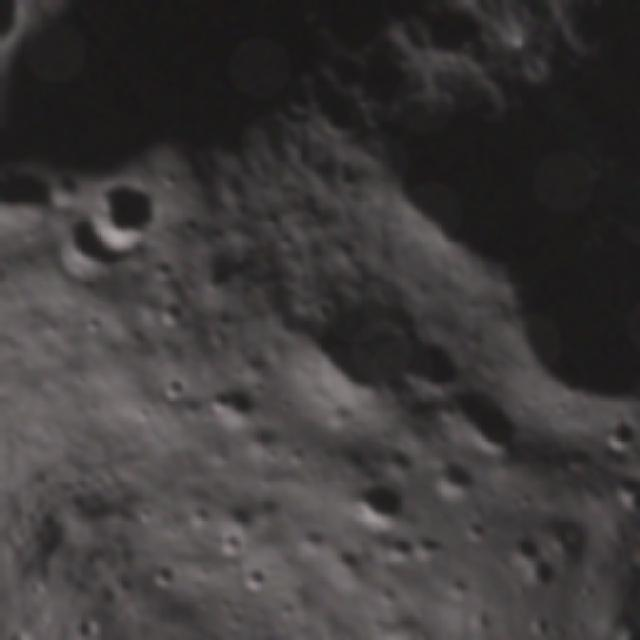crater: (78, 164, 171, 256), (43, 204, 125, 288), (0, 152, 57, 240), (422, 457, 475, 512), (336, 482, 390, 533), (591, 414, 640, 468), (139, 251, 184, 298), (142, 548, 184, 594), (146, 292, 189, 336), (503, 524, 545, 567), (414, 528, 455, 569), (153, 374, 193, 412), (368, 536, 408, 572), (176, 215, 209, 251), (208, 530, 238, 562), (241, 562, 270, 592), (188, 504, 217, 530)
